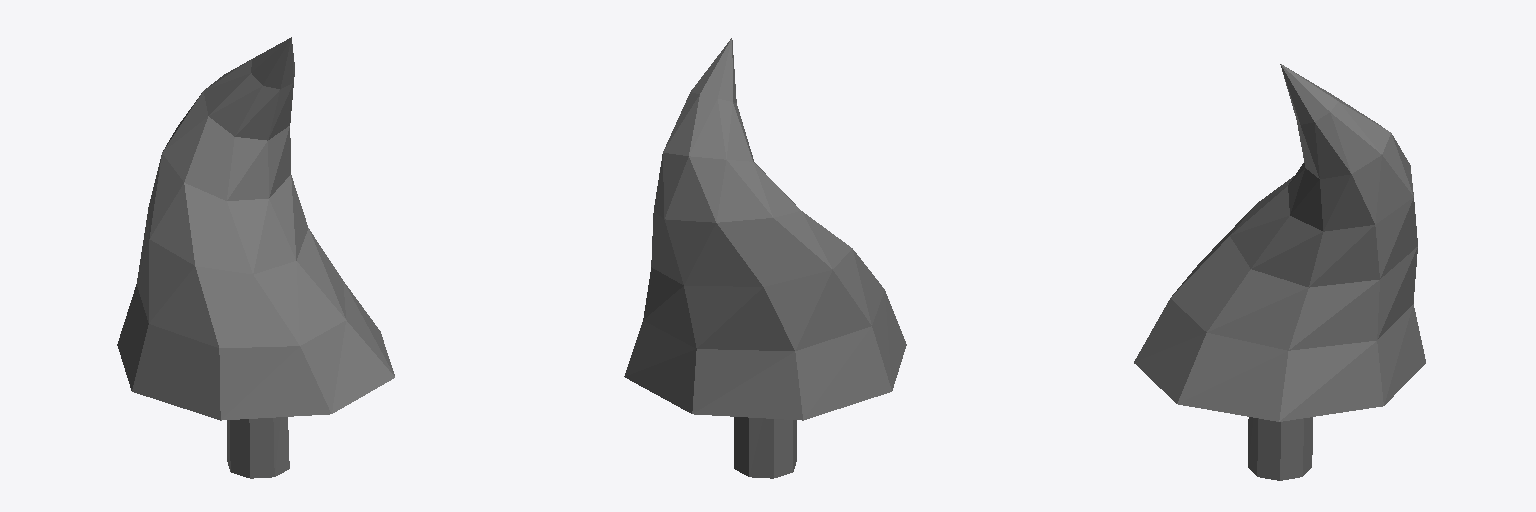
The model's file is TreeB3.obj.
3 renders of one model, left to right at view 1: azimuth 30°, elevation 25°; view 2: azimuth 150°, elevation 25°; view 3: azimuth 270°, elevation 25°, orthographic.
Visible parts, largest first — view 1: pCone1; view 2: pCone1; view 3: pCone1.
Part boxes in pixels (x1,y1,x2,y2): pCone1: (117,37,394,478); pCone1: (624,38,906,478); pCone1: (1134,64,1425,480).
Bounding box in the file's own units: 5.88 × 9.51 × 6.